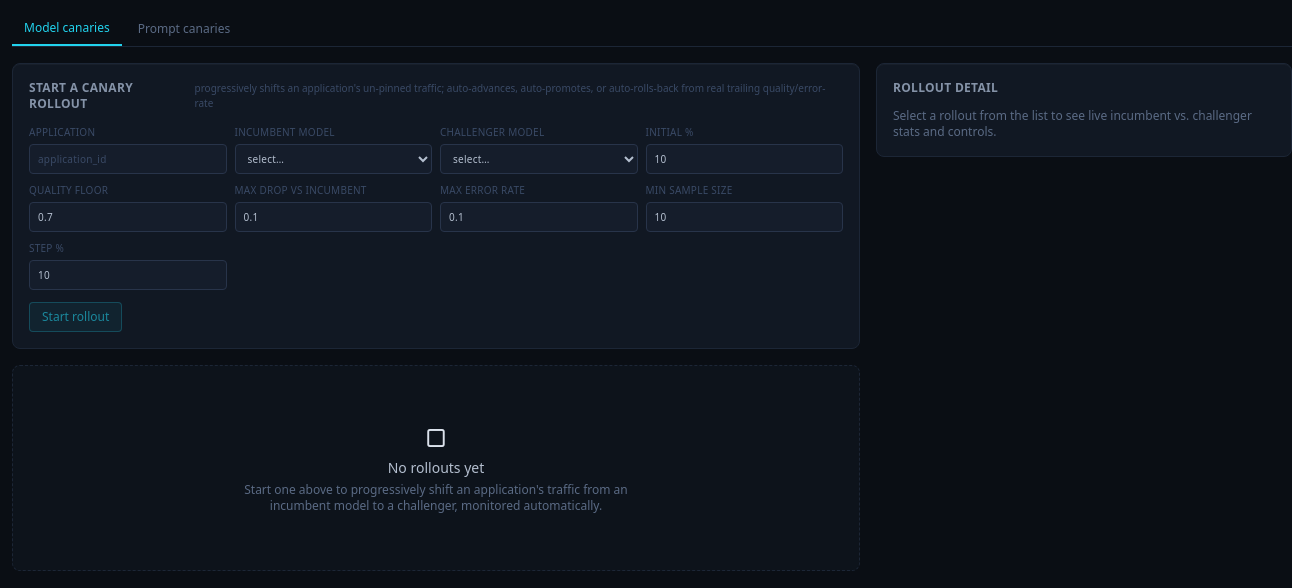
Scenario: RolloutsPage › start form › keeps Start disabled until both arms are chosen and differ
Expected: the button "Start rollout" is disabled, [29,302,122,332]
Step 1. Type "checkout" into the field labelled "Application" → (128, 159), box [29,144,226,174]
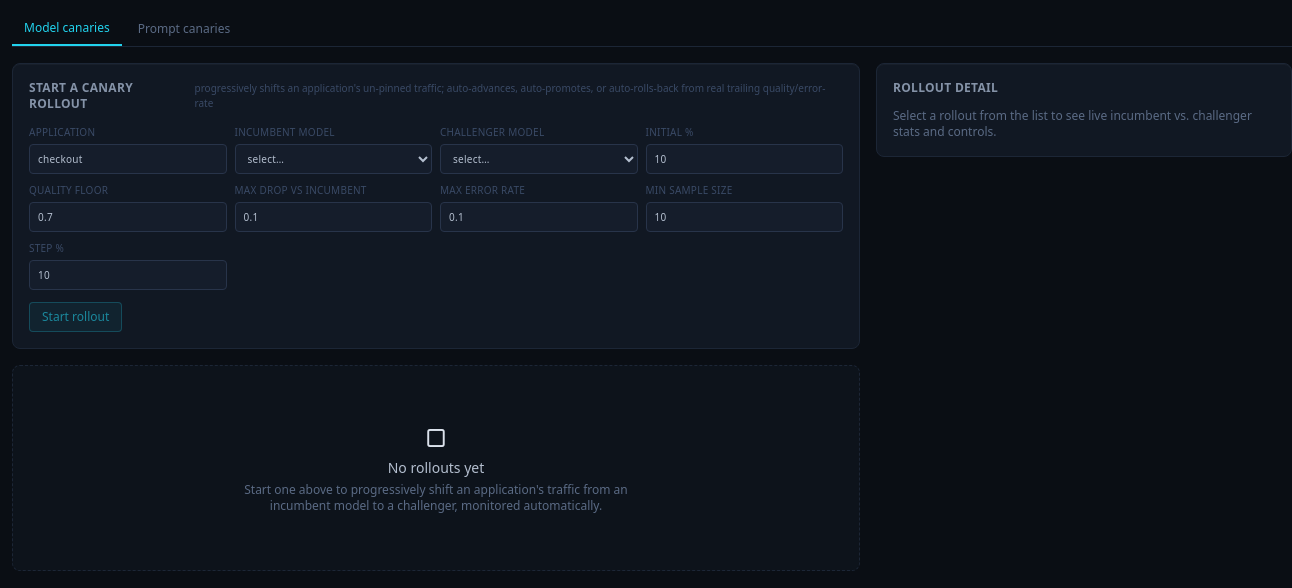
Step 2. Select "mock:sentinel-pro" in the dropdown labelled "Incumbent model" → (333, 159), box [234,144,432,174]
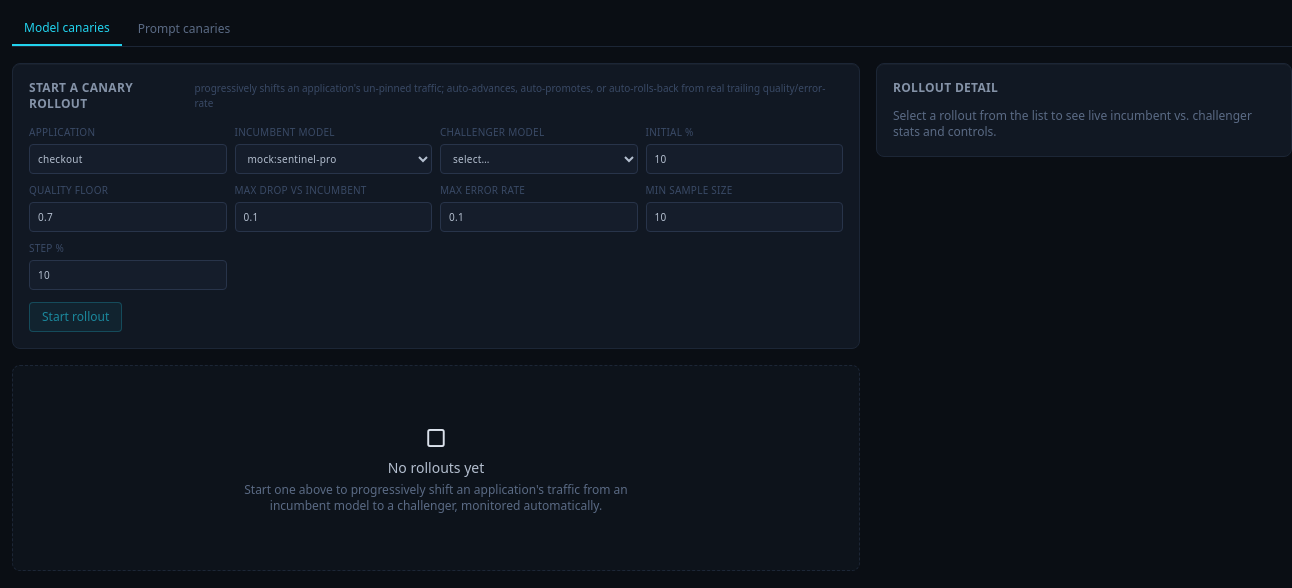
Step 3. Select "mock:sentinel-flash" in the dropdown labelled "Challenger model" → (539, 159), box [440,144,638,174]
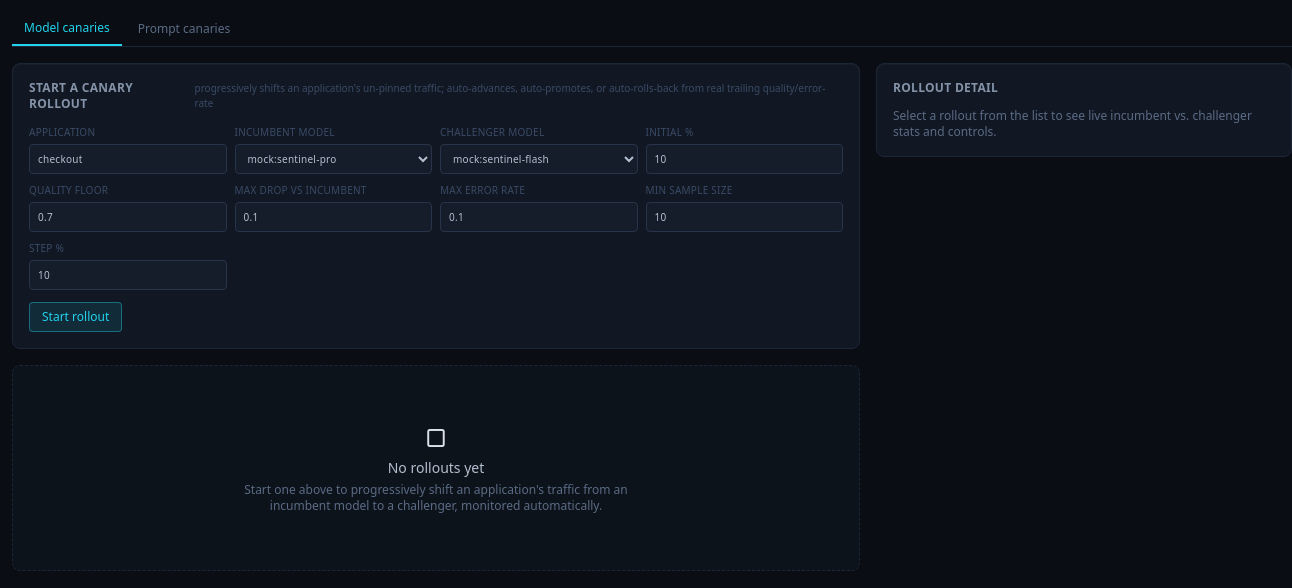
Result: the button "Start rollout" is enabled at [29,302,122,332]
Step 4. Select "mock:sentinel-pro" in the dropdown labelled "Challenger model" → (539, 159), box [440,144,638,174]
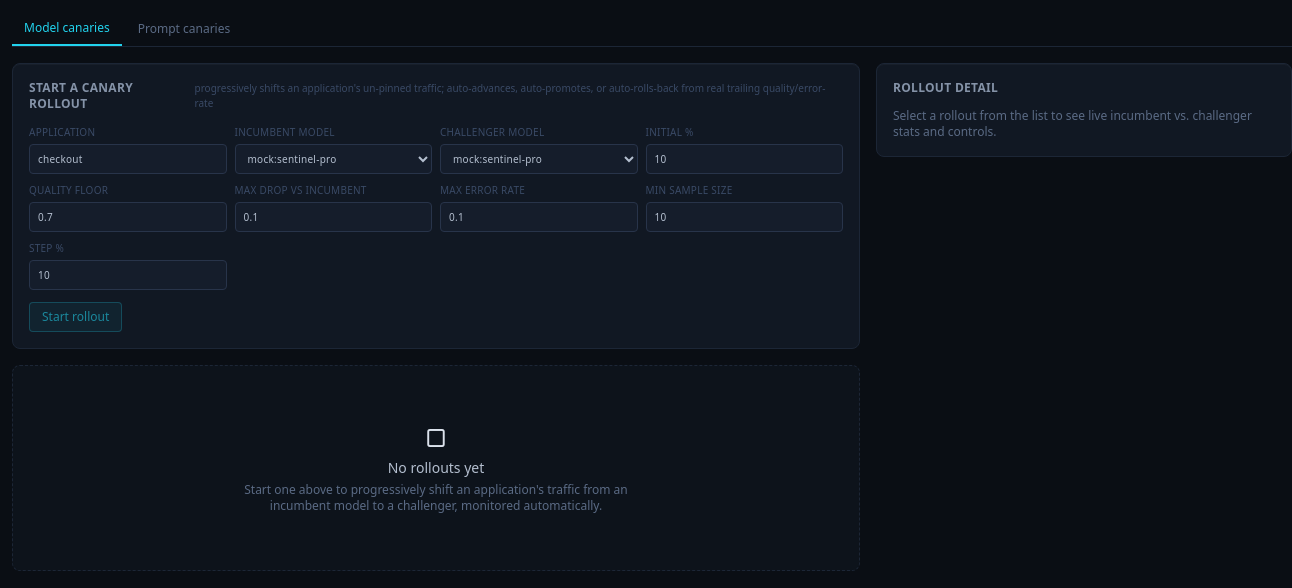
Result: the button "Start rollout" is disabled at [29,302,122,332]
